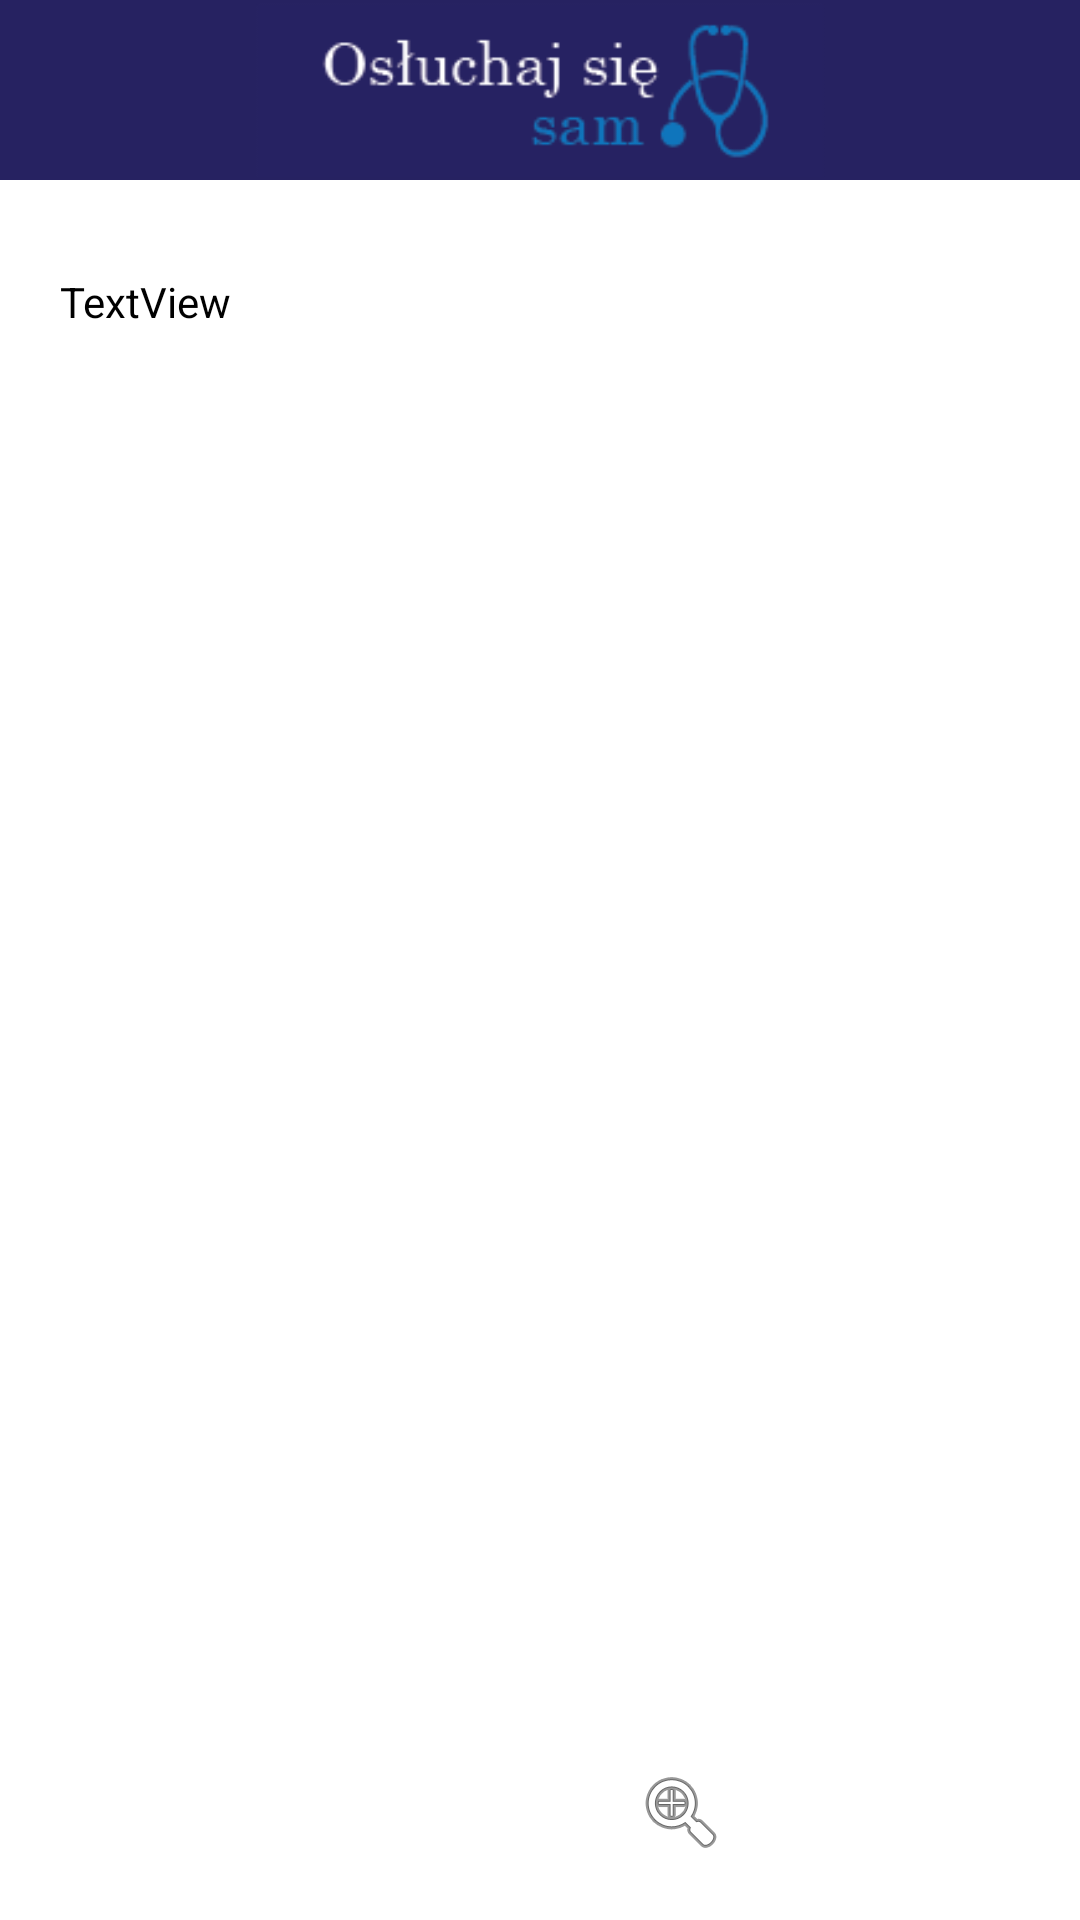

Icon click points for this 1080w x 1920h phone screenshot, format [x,y]:
zoom: [681,1812]
